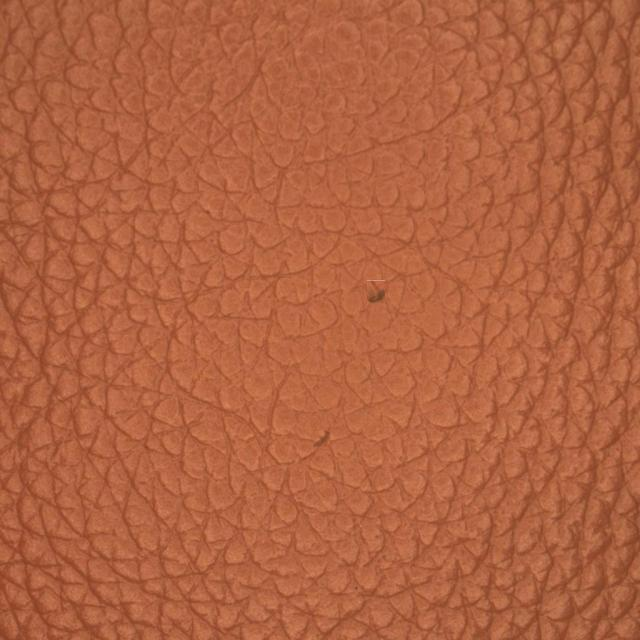pinhole: (283, 242, 477, 362)
